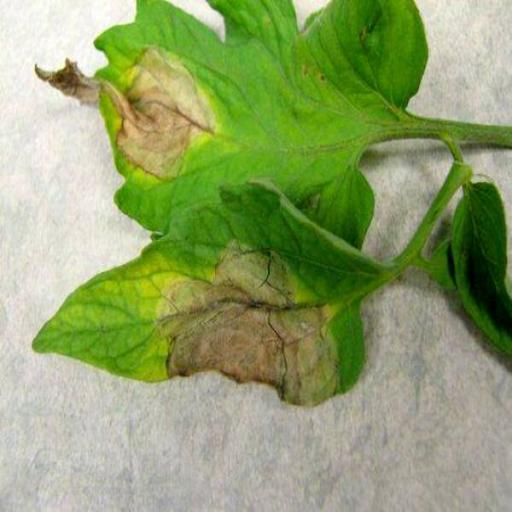disease_tomato: (35, 0, 427, 231), (29, 174, 367, 408)
